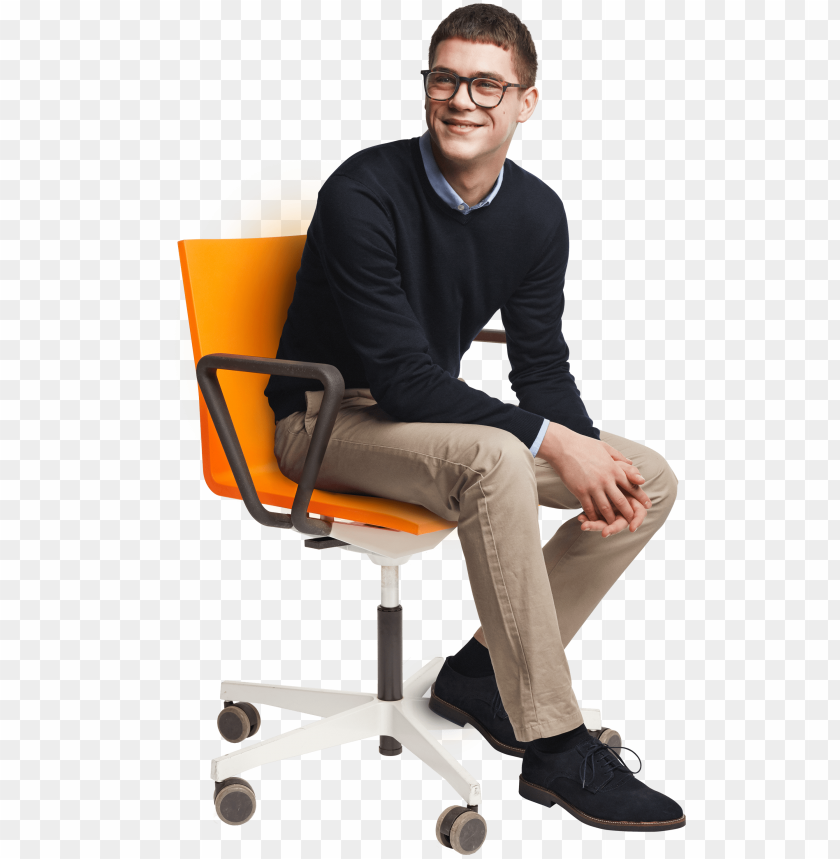chair: (179, 241, 492, 852)
human: (398, 6, 682, 823)
